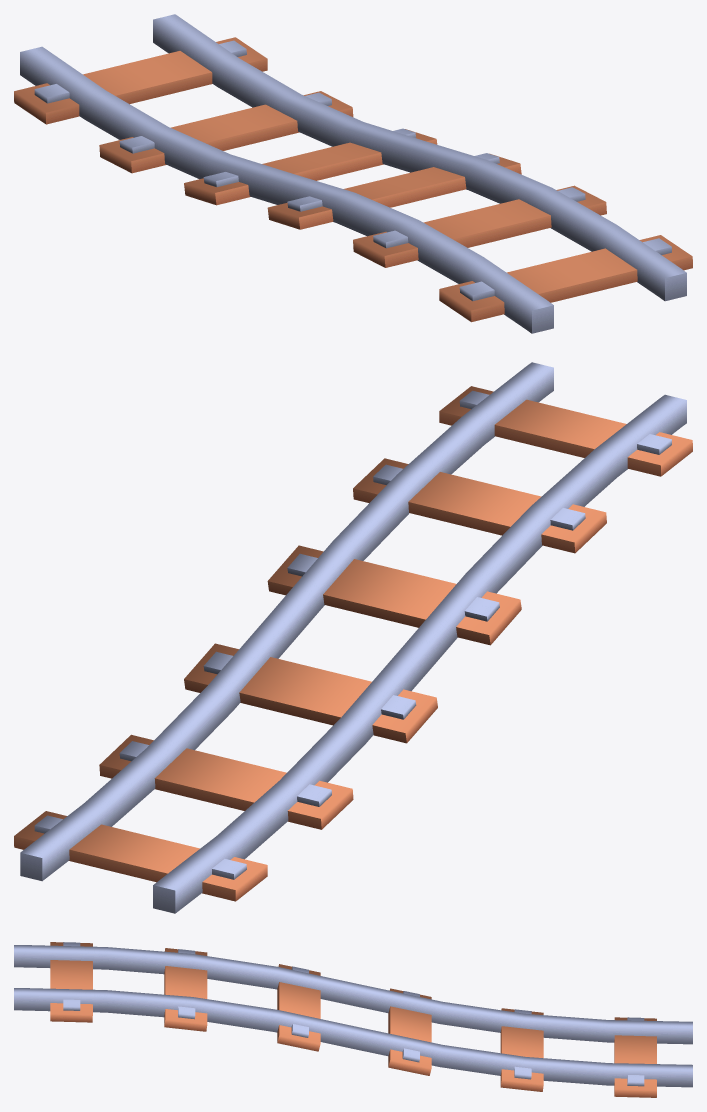
Rendered from railroad-straight-hill-complete-half.glb.
3 renders of one model, top to bottom at view 1: azimuth 30°, elevation 25°; view 2: azimuth 150°, elevation 25°; view 3: azimuth 270°, elevation 25°, orthographic. The views are drawn at different scales.
Parts seen in each view (by area): view 1: railroad-straight-hill-complete-half; view 2: railroad-straight-hill-complete-half; view 3: railroad-straight-hill-complete-half.
Part boxes in pixels (<box>): railroad-straight-hill-complete-half: <box>14,14,692,333</box>; railroad-straight-hill-complete-half: <box>14,362,692,913</box>; railroad-straight-hill-complete-half: <box>14,942,692,1097</box>.
Bounding box in the file's own units: 1 × 0.5999 × 4.
Materials: 1 (1 with a texture image).
